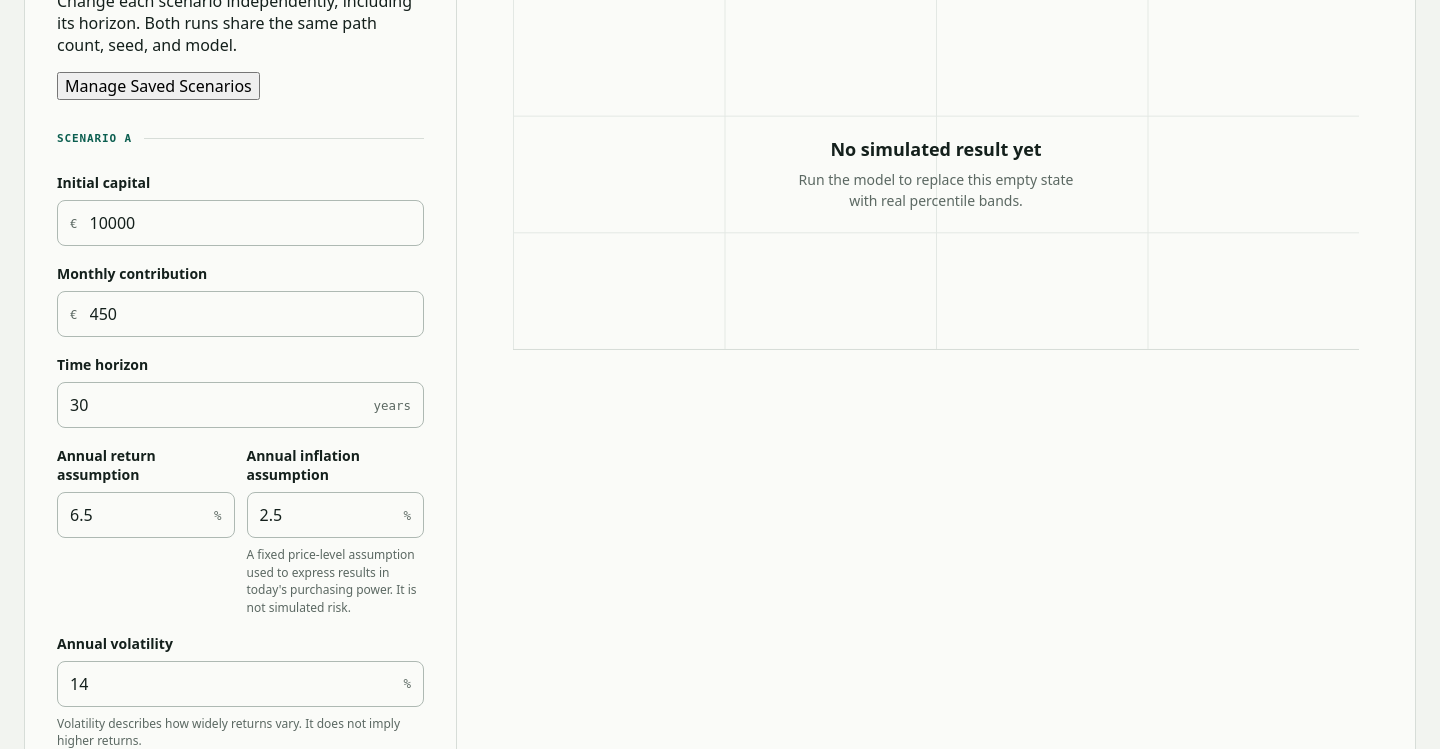
MarketSim simulation workspace › stops before Scenario B when Scenario A execution fails
(page scrolled)
Replace the text in the number field labelled "Time horizon" with "1" at [210, 405], box top-left (58, 383), bottom-right (362, 427)
(page scrolled)
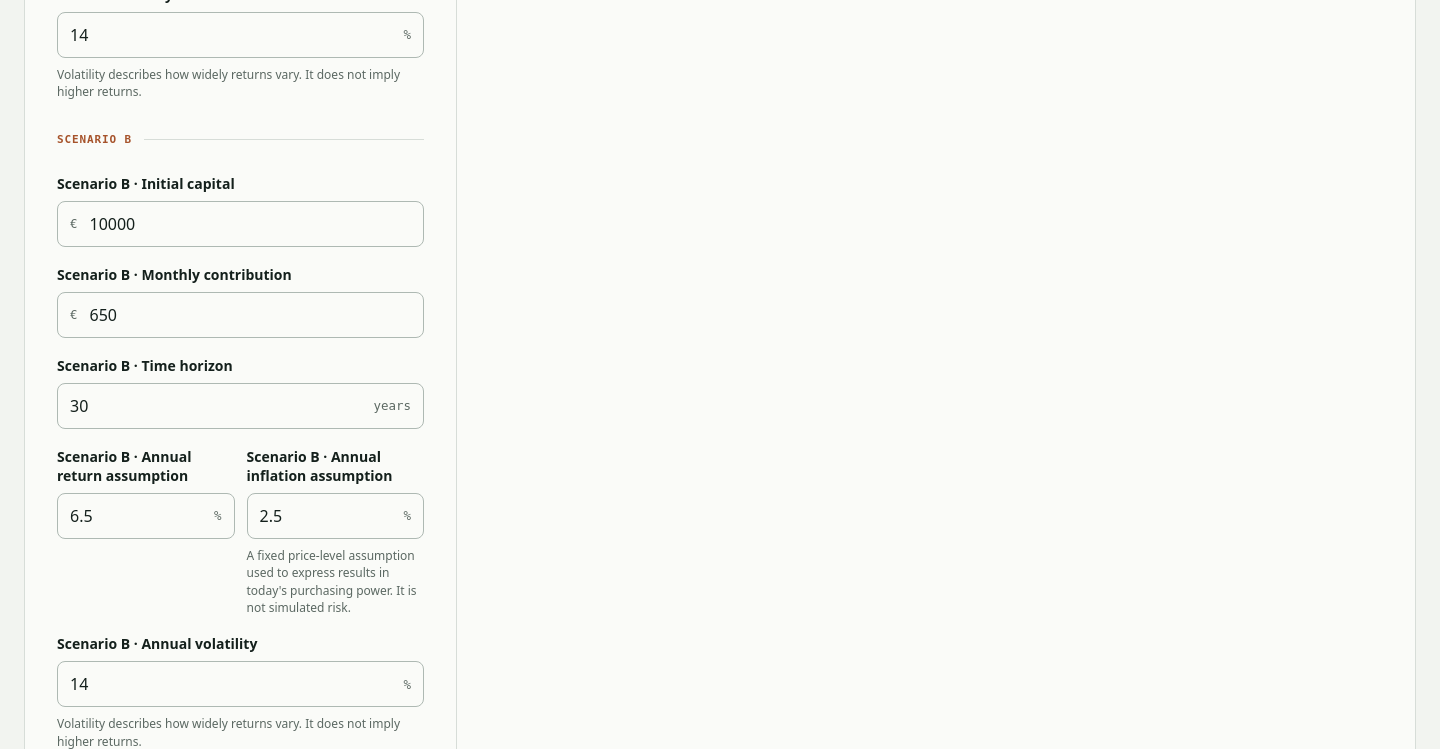
Replace the text in the number field labelled "Scenario B · Time horizon" with "1" at [210, 406], box top-left (58, 384), bottom-right (362, 428)
(page scrolled)
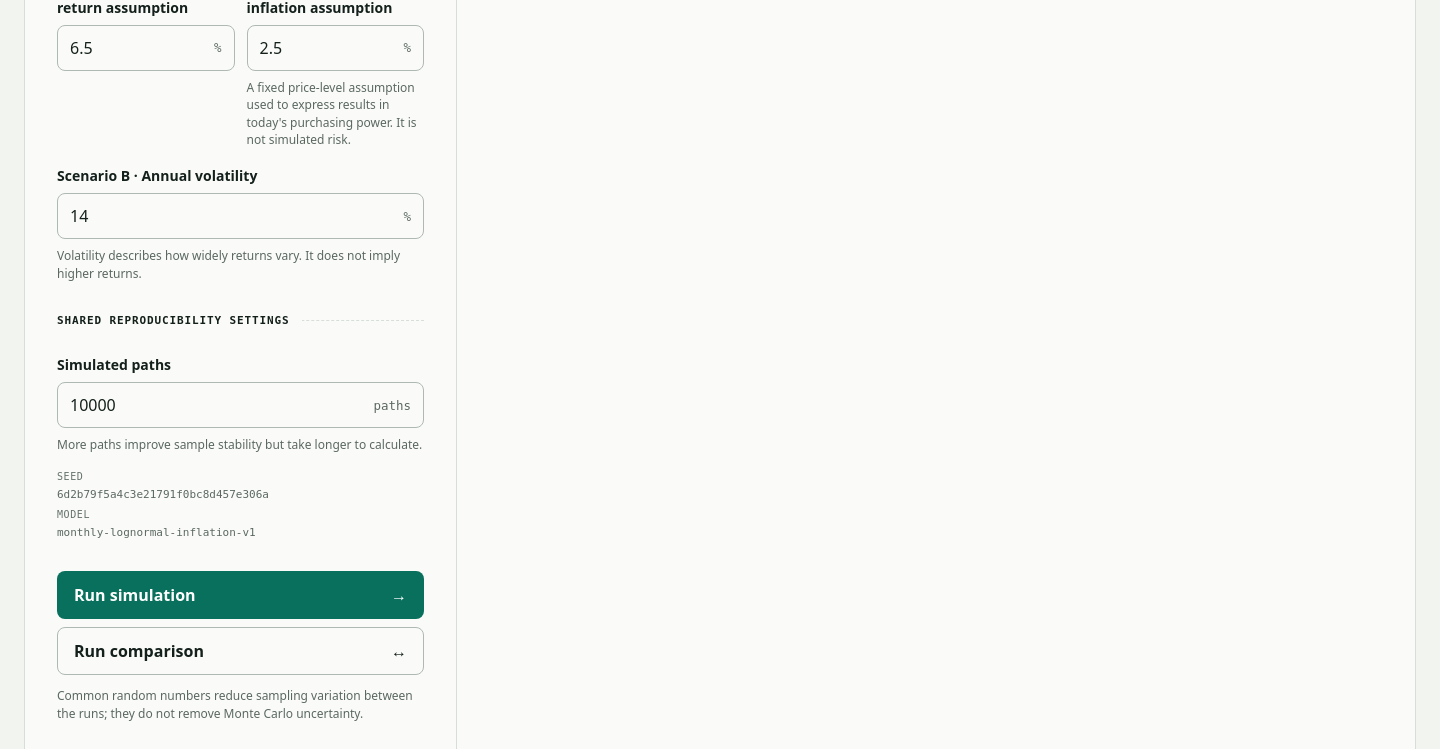
Replace the text in the number field labelled "Simulated paths" with "32" at [210, 405], box top-left (58, 383), bottom-right (362, 427)
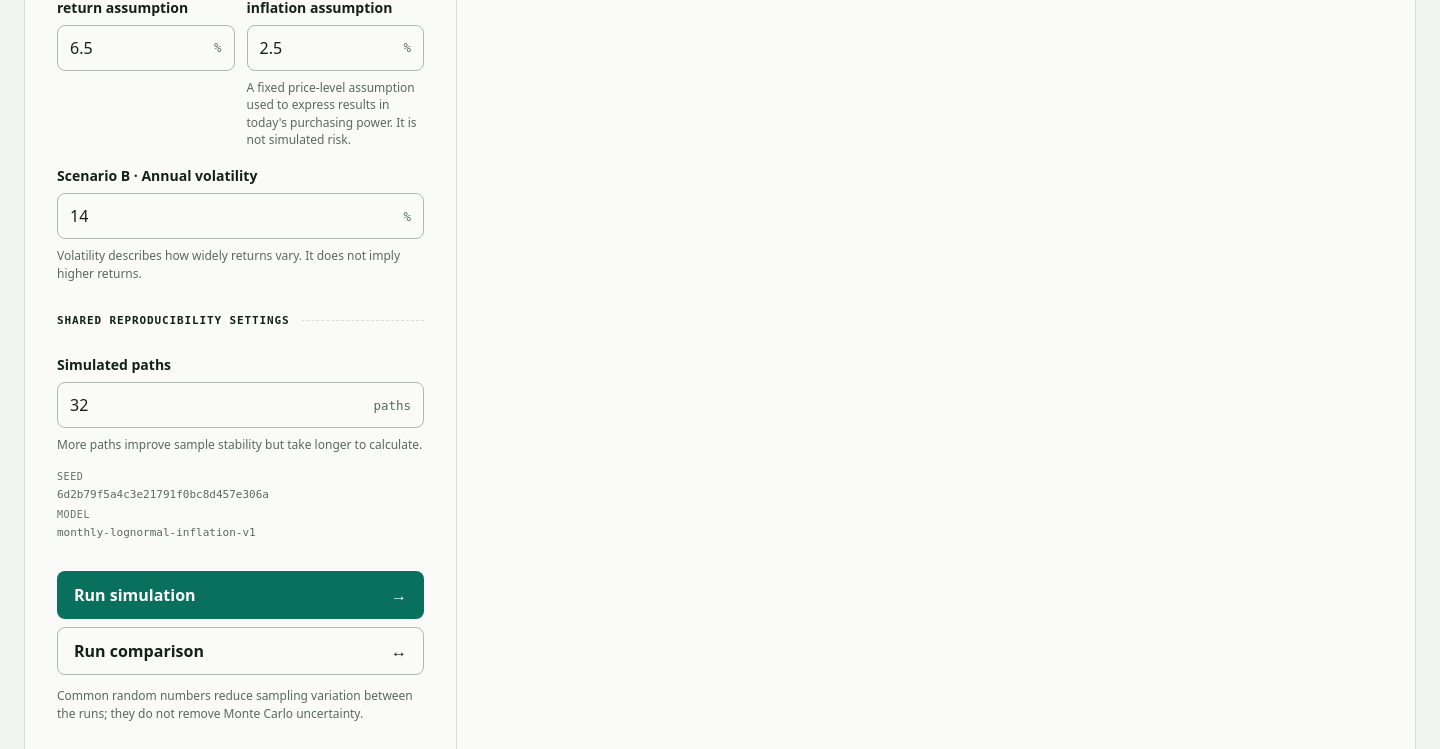
Click the button "Run comparison ↔" at [139, 651], box top-left (57, 628), bottom-right (424, 676)
(page scrolled)
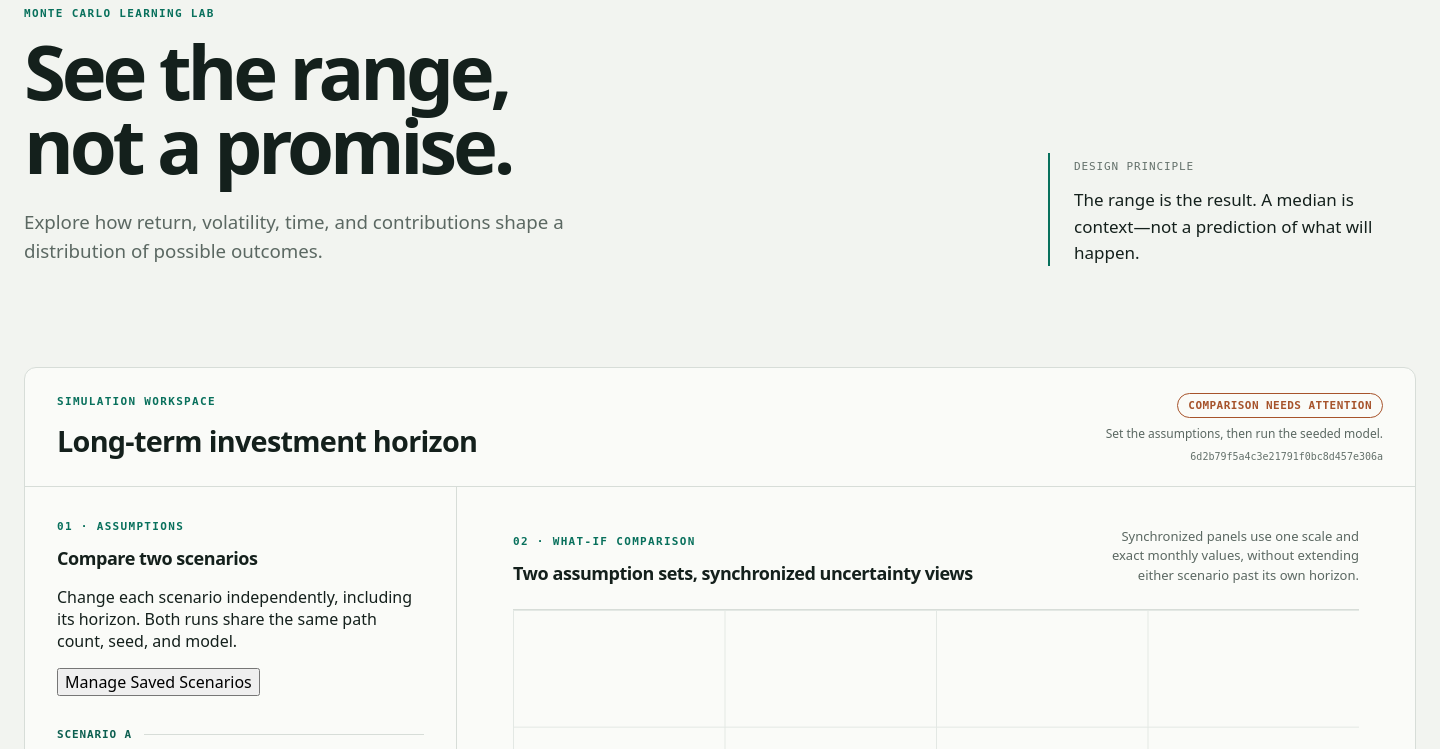
Check: the text "Comparison needs attention" is shown, box top-left (1177, 393), bottom-right (1383, 418)
